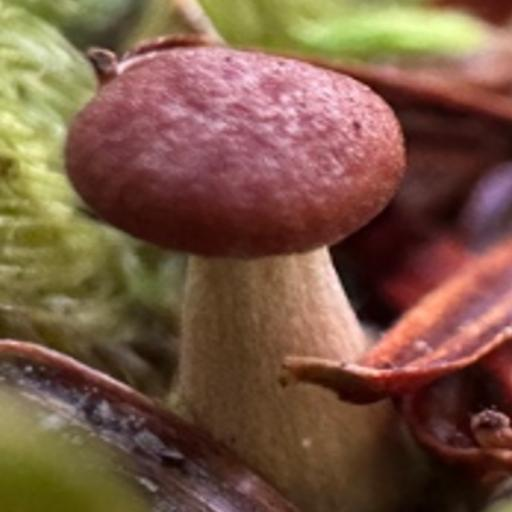mushroom: (55, 41, 427, 349)
